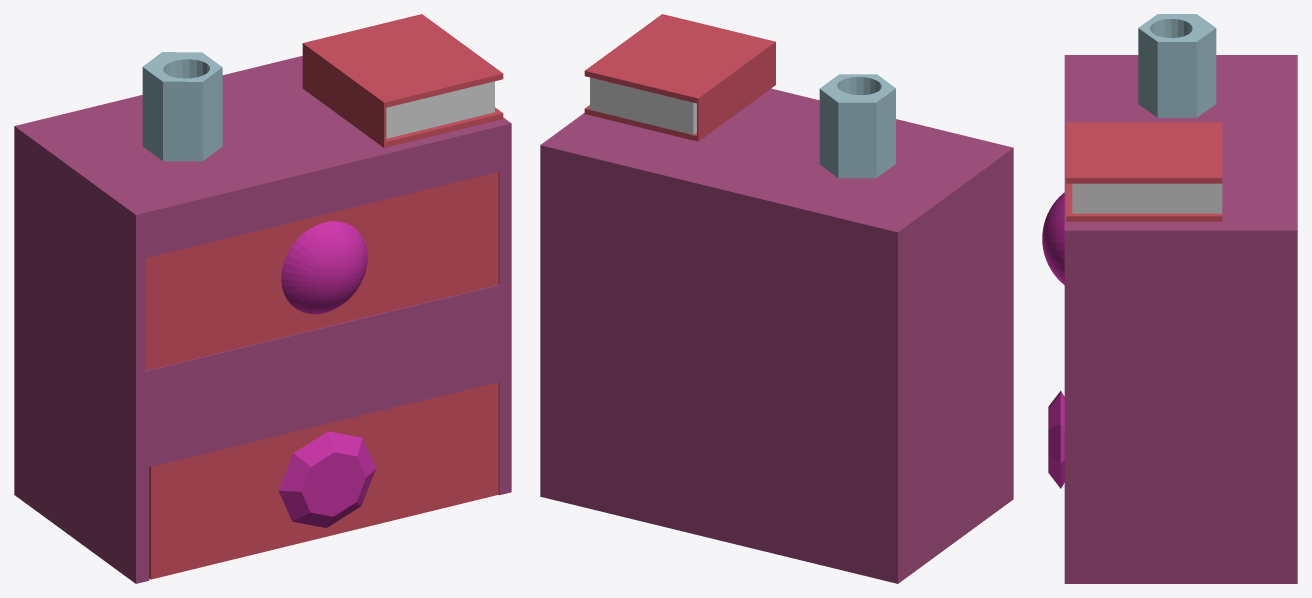
Rendered from SIDE TABLE MODEL.glb.
The picture shows the model from 3 angles, left to right: view 1: azimuth 30°, elevation 25°; view 2: azimuth 150°, elevation 25°; view 3: azimuth 270°, elevation 25°; orthographic projection. The views are drawn at different scales.
Visible parts, largest first — view 1: Mesh_Mesh_head_geo.001_lambert2SG.001; view 2: Mesh_Mesh_head_geo.001_lambert2SG.001; view 3: Mesh_Mesh_head_geo.001_lambert2SG.001.
Part boxes in pixels (bbox=[...]): Mesh_Mesh_head_geo.001_lambert2SG.001: bbox=[14, 14, 511, 583]; Mesh_Mesh_head_geo.001_lambert2SG.001: bbox=[540, 14, 1013, 583]; Mesh_Mesh_head_geo.001_lambert2SG.001: bbox=[1042, 14, 1297, 583].
Bounding box in the file's own units: 69.25 × 79 × 42.59.
